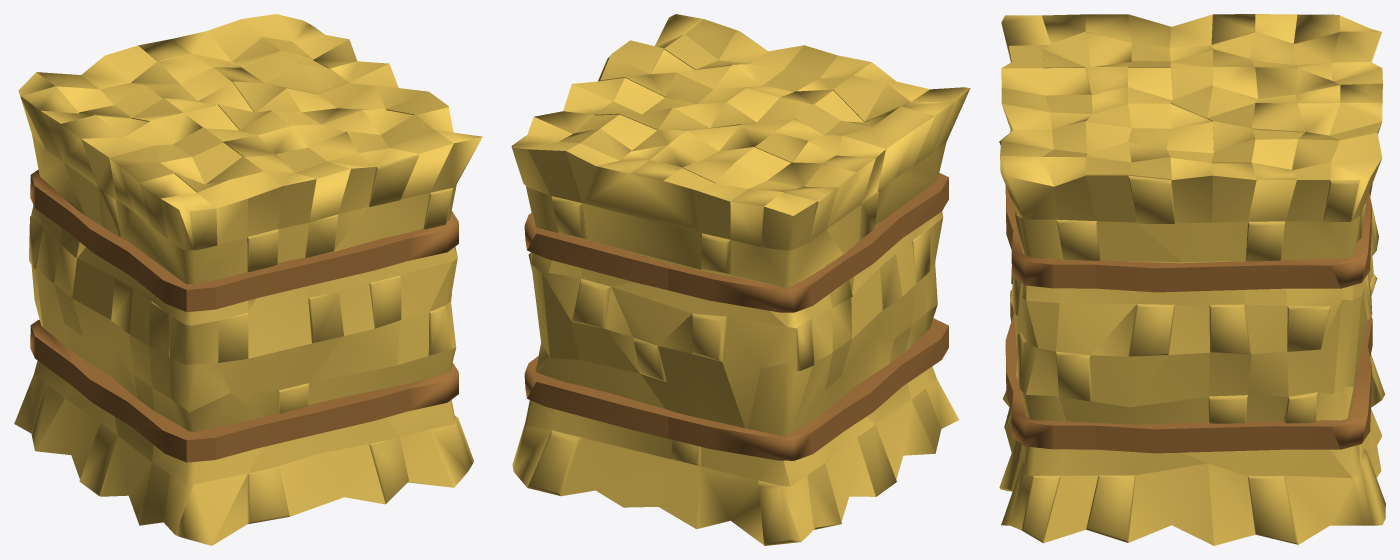
Rendered from hay_bale.glb.
3 views of the same model, side by side, from view 1: azimuth 30°, elevation 25°; view 2: azimuth 150°, elevation 25°; view 3: azimuth 270°, elevation 25° (orthographic). The views are drawn at different scales.
Parts seen in each view (by area): view 1: hay_bale; view 2: hay_bale; view 3: hay_bale.
Part boxes in pixels (x1,y1,x2,y2): hay_bale: [14, 14, 482, 545]; hay_bale: [511, 14, 970, 545]; hay_bale: [999, 14, 1385, 545].
Bounding box in the file's own units: 1.15 × 1.22 × 1.14.
